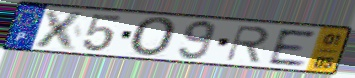5: (81, 12, 124, 52)
9: (176, 19, 218, 62)
E: (266, 28, 318, 67)
O: (128, 16, 180, 59)
R: (223, 24, 272, 64)
X: (31, 8, 90, 52)
